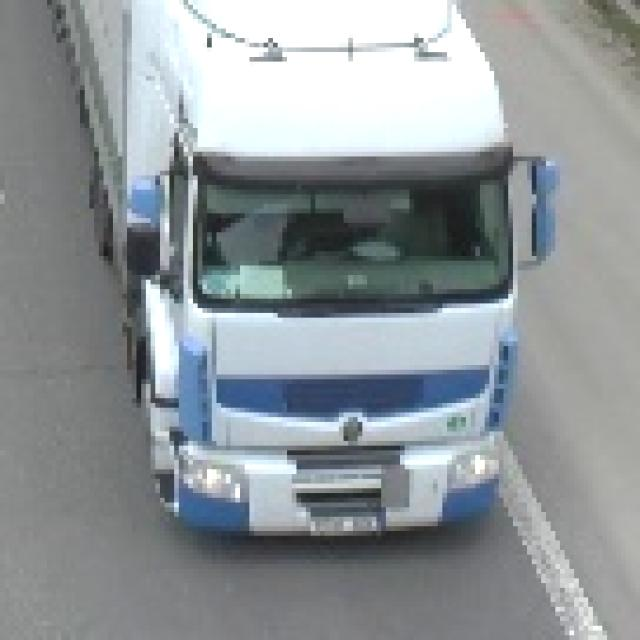TRUCK: (56, 0, 525, 545)
